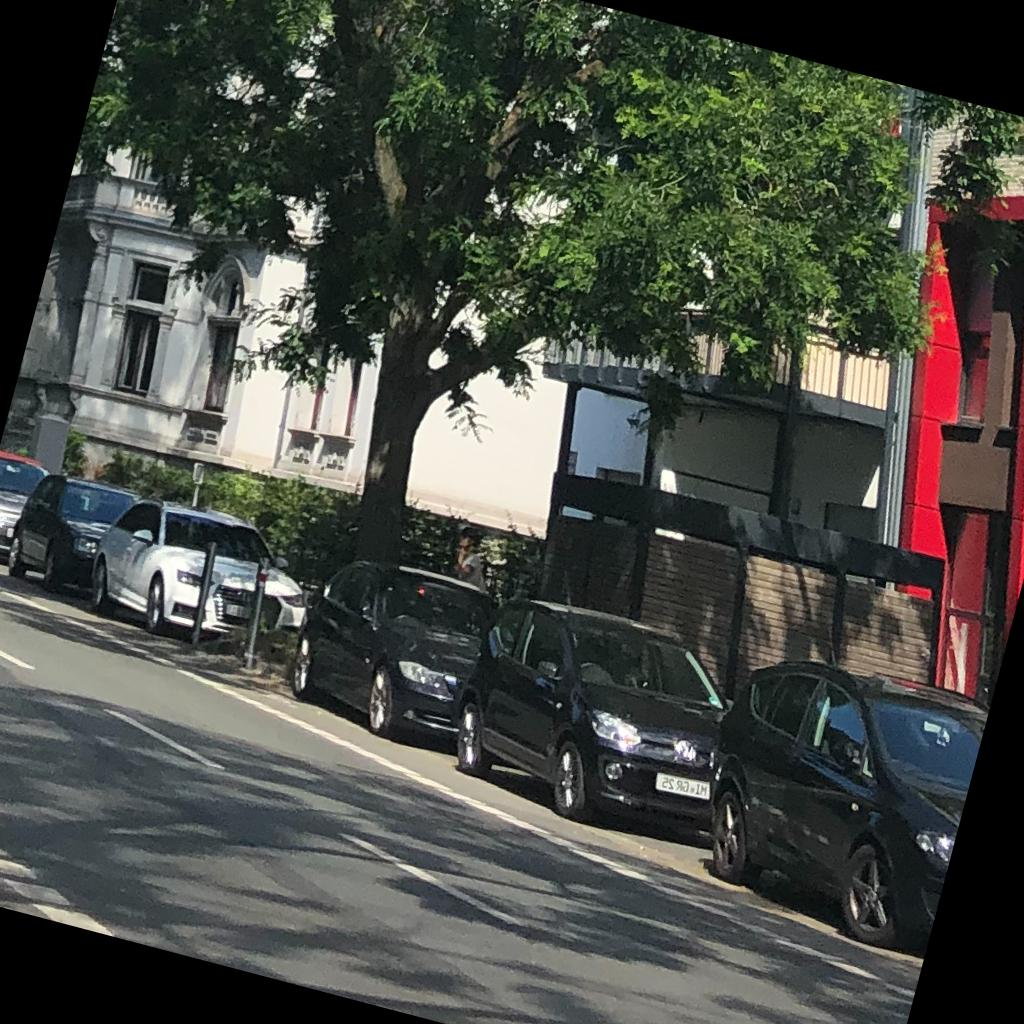tree: (1, 1, 948, 559)
